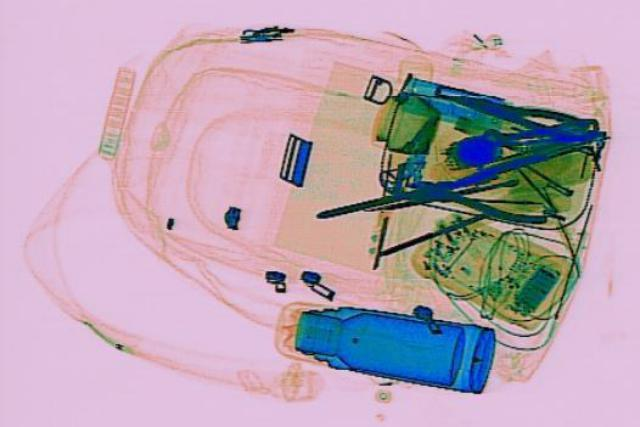Pliers: (392, 151, 558, 228), (434, 81, 588, 138)
